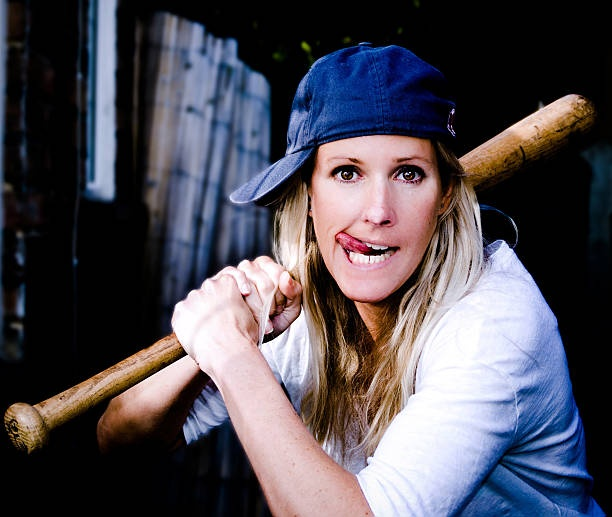bita: (17, 312, 212, 464), (460, 99, 595, 188)
